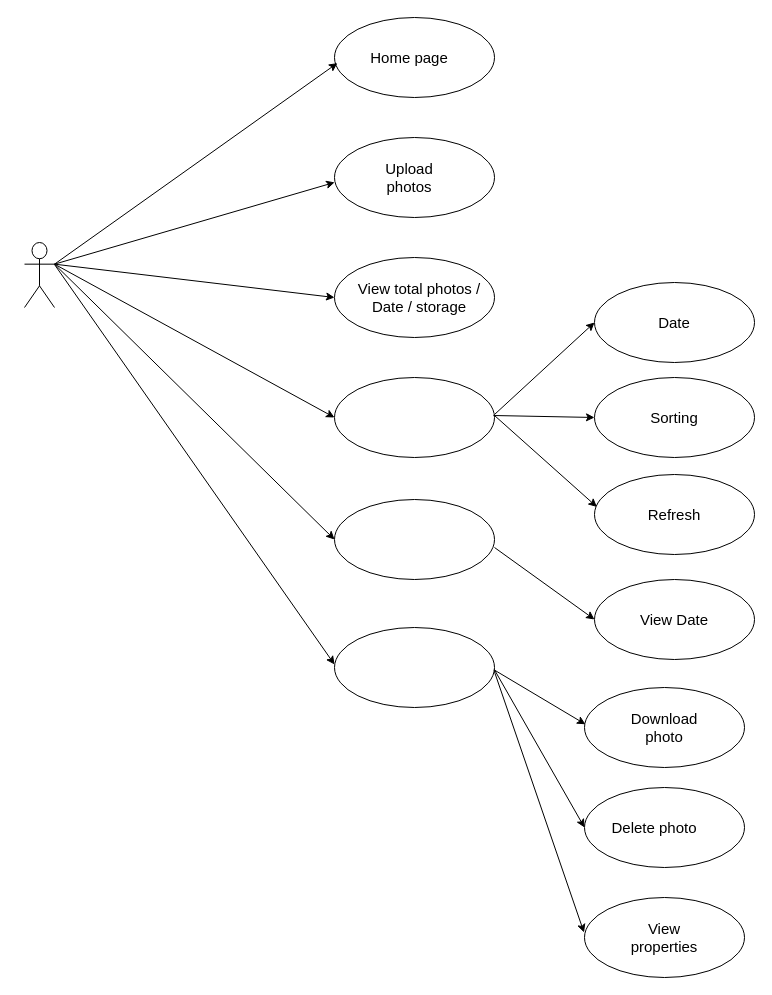
This 772x995 diagram has some shape labels left out. The shapes that lost their labels are listed below. From the top down, each one's centre as x and y in pixels, then its label:
At pixel 39 275: "users".
At pixel 414 417: "Click masonry & Grid".
At pixel 414 539: "Click all photos".
At pixel 414 667: "Click photo".
